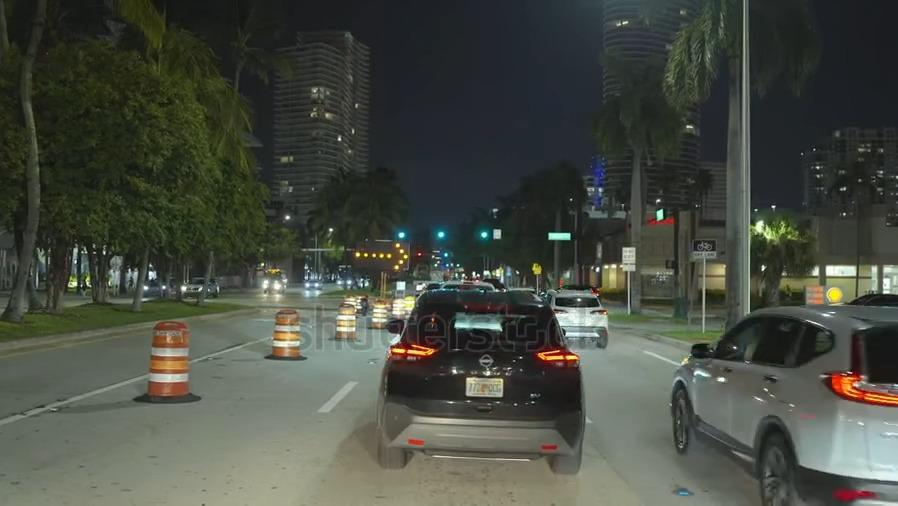arrow traffic sign: (354, 238, 411, 275)
bus: (336, 261, 353, 287), (264, 267, 287, 284)
car: (671, 312, 898, 506), (390, 291, 579, 470), (545, 287, 606, 345), (829, 290, 898, 312), (177, 272, 220, 300), (137, 270, 175, 299), (264, 278, 285, 297), (300, 276, 323, 292)
cone: (144, 319, 190, 396), (270, 308, 301, 359), (332, 299, 355, 340), (371, 297, 387, 334), (388, 295, 401, 319), (404, 291, 415, 312)
traffic light: (468, 223, 495, 247), (432, 223, 449, 248), (392, 224, 411, 242)
wheel: (753, 426, 797, 506), (669, 382, 699, 456)
